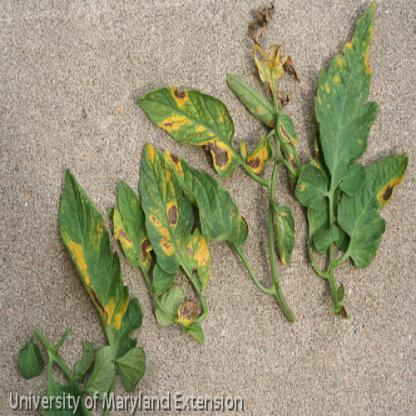potato leaf early blight: (319, 2, 407, 262), (54, 166, 137, 340), (135, 84, 244, 181), (138, 144, 197, 274)
